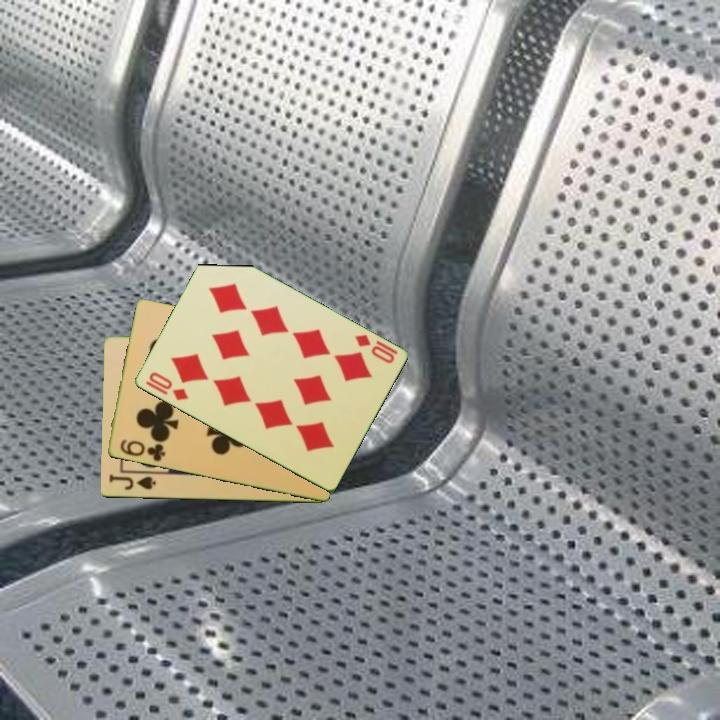10d: (141, 368, 191, 404), (351, 331, 400, 367)
6c: (116, 436, 168, 465)
Js: (105, 471, 158, 493)
